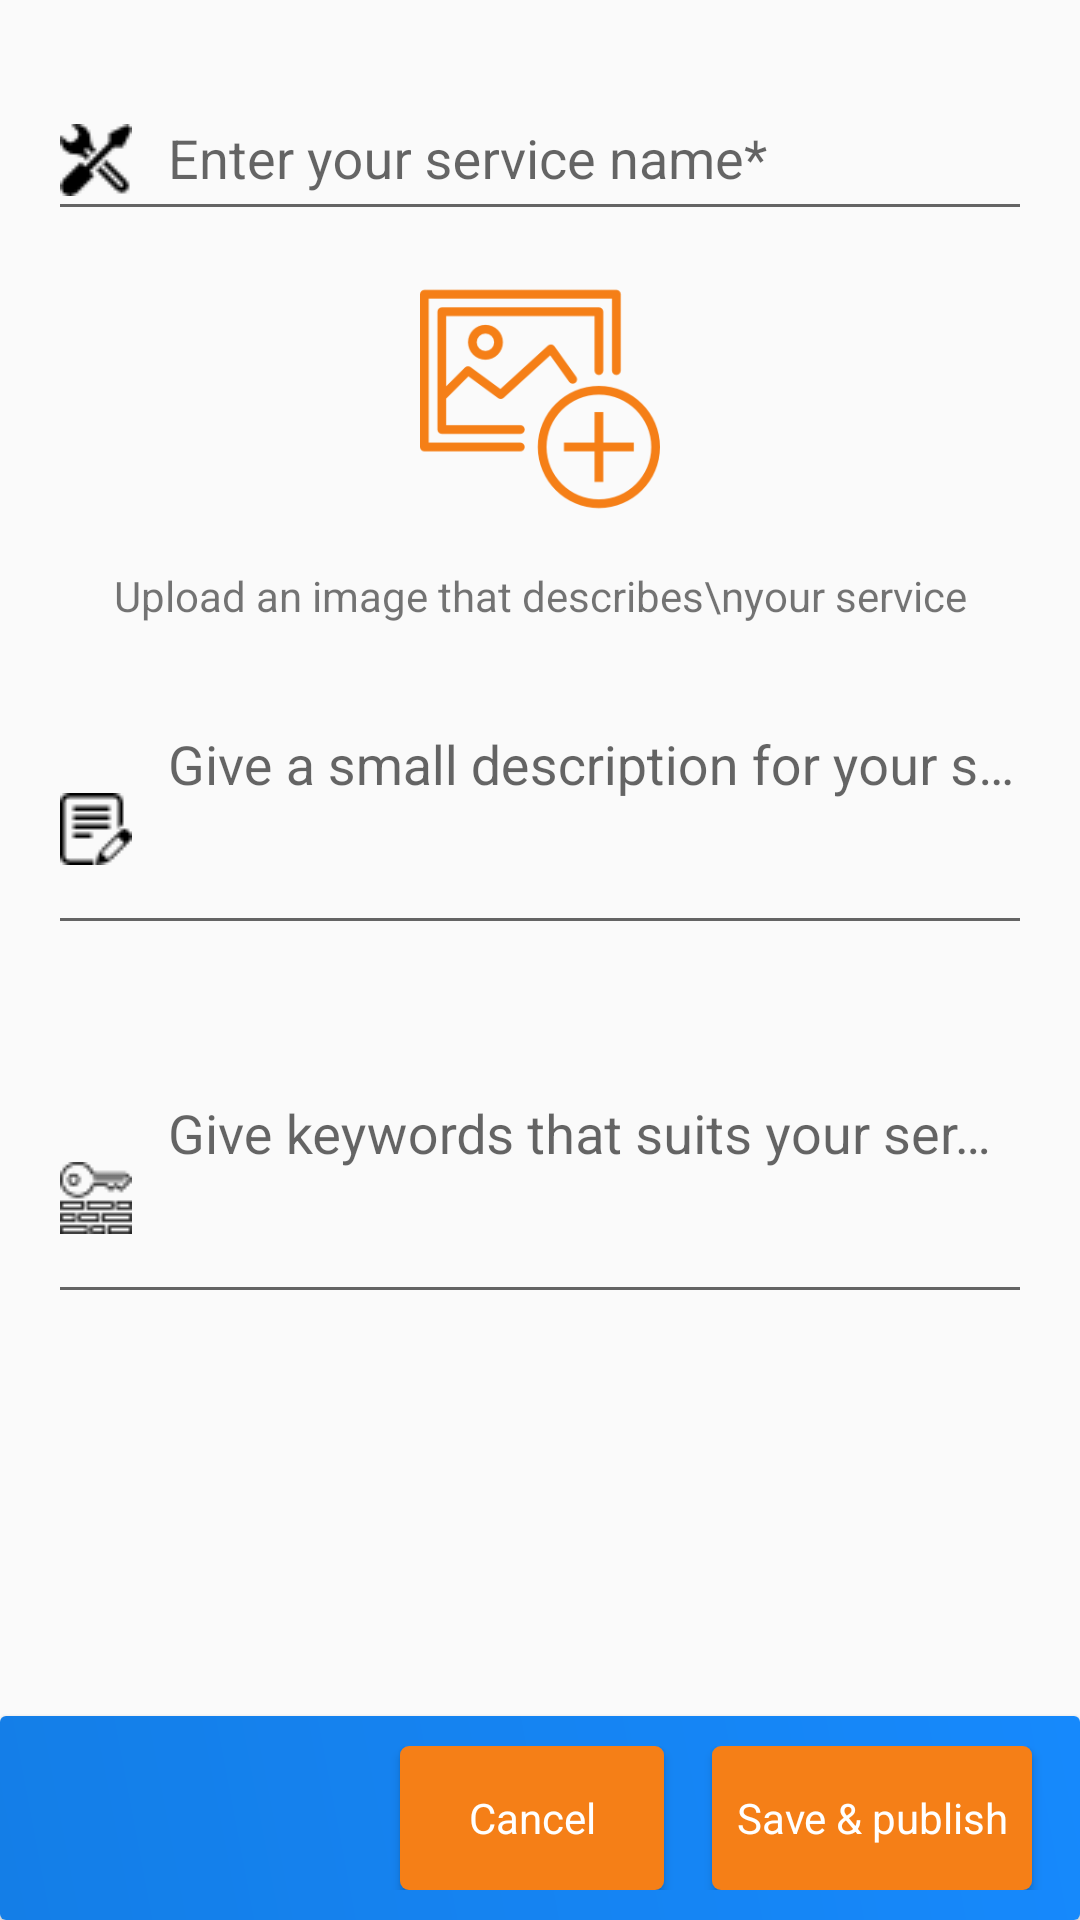

Named icons in this screenshot (1080px x 1920px) and their centers, point (x, y):
add: point (540, 399)
